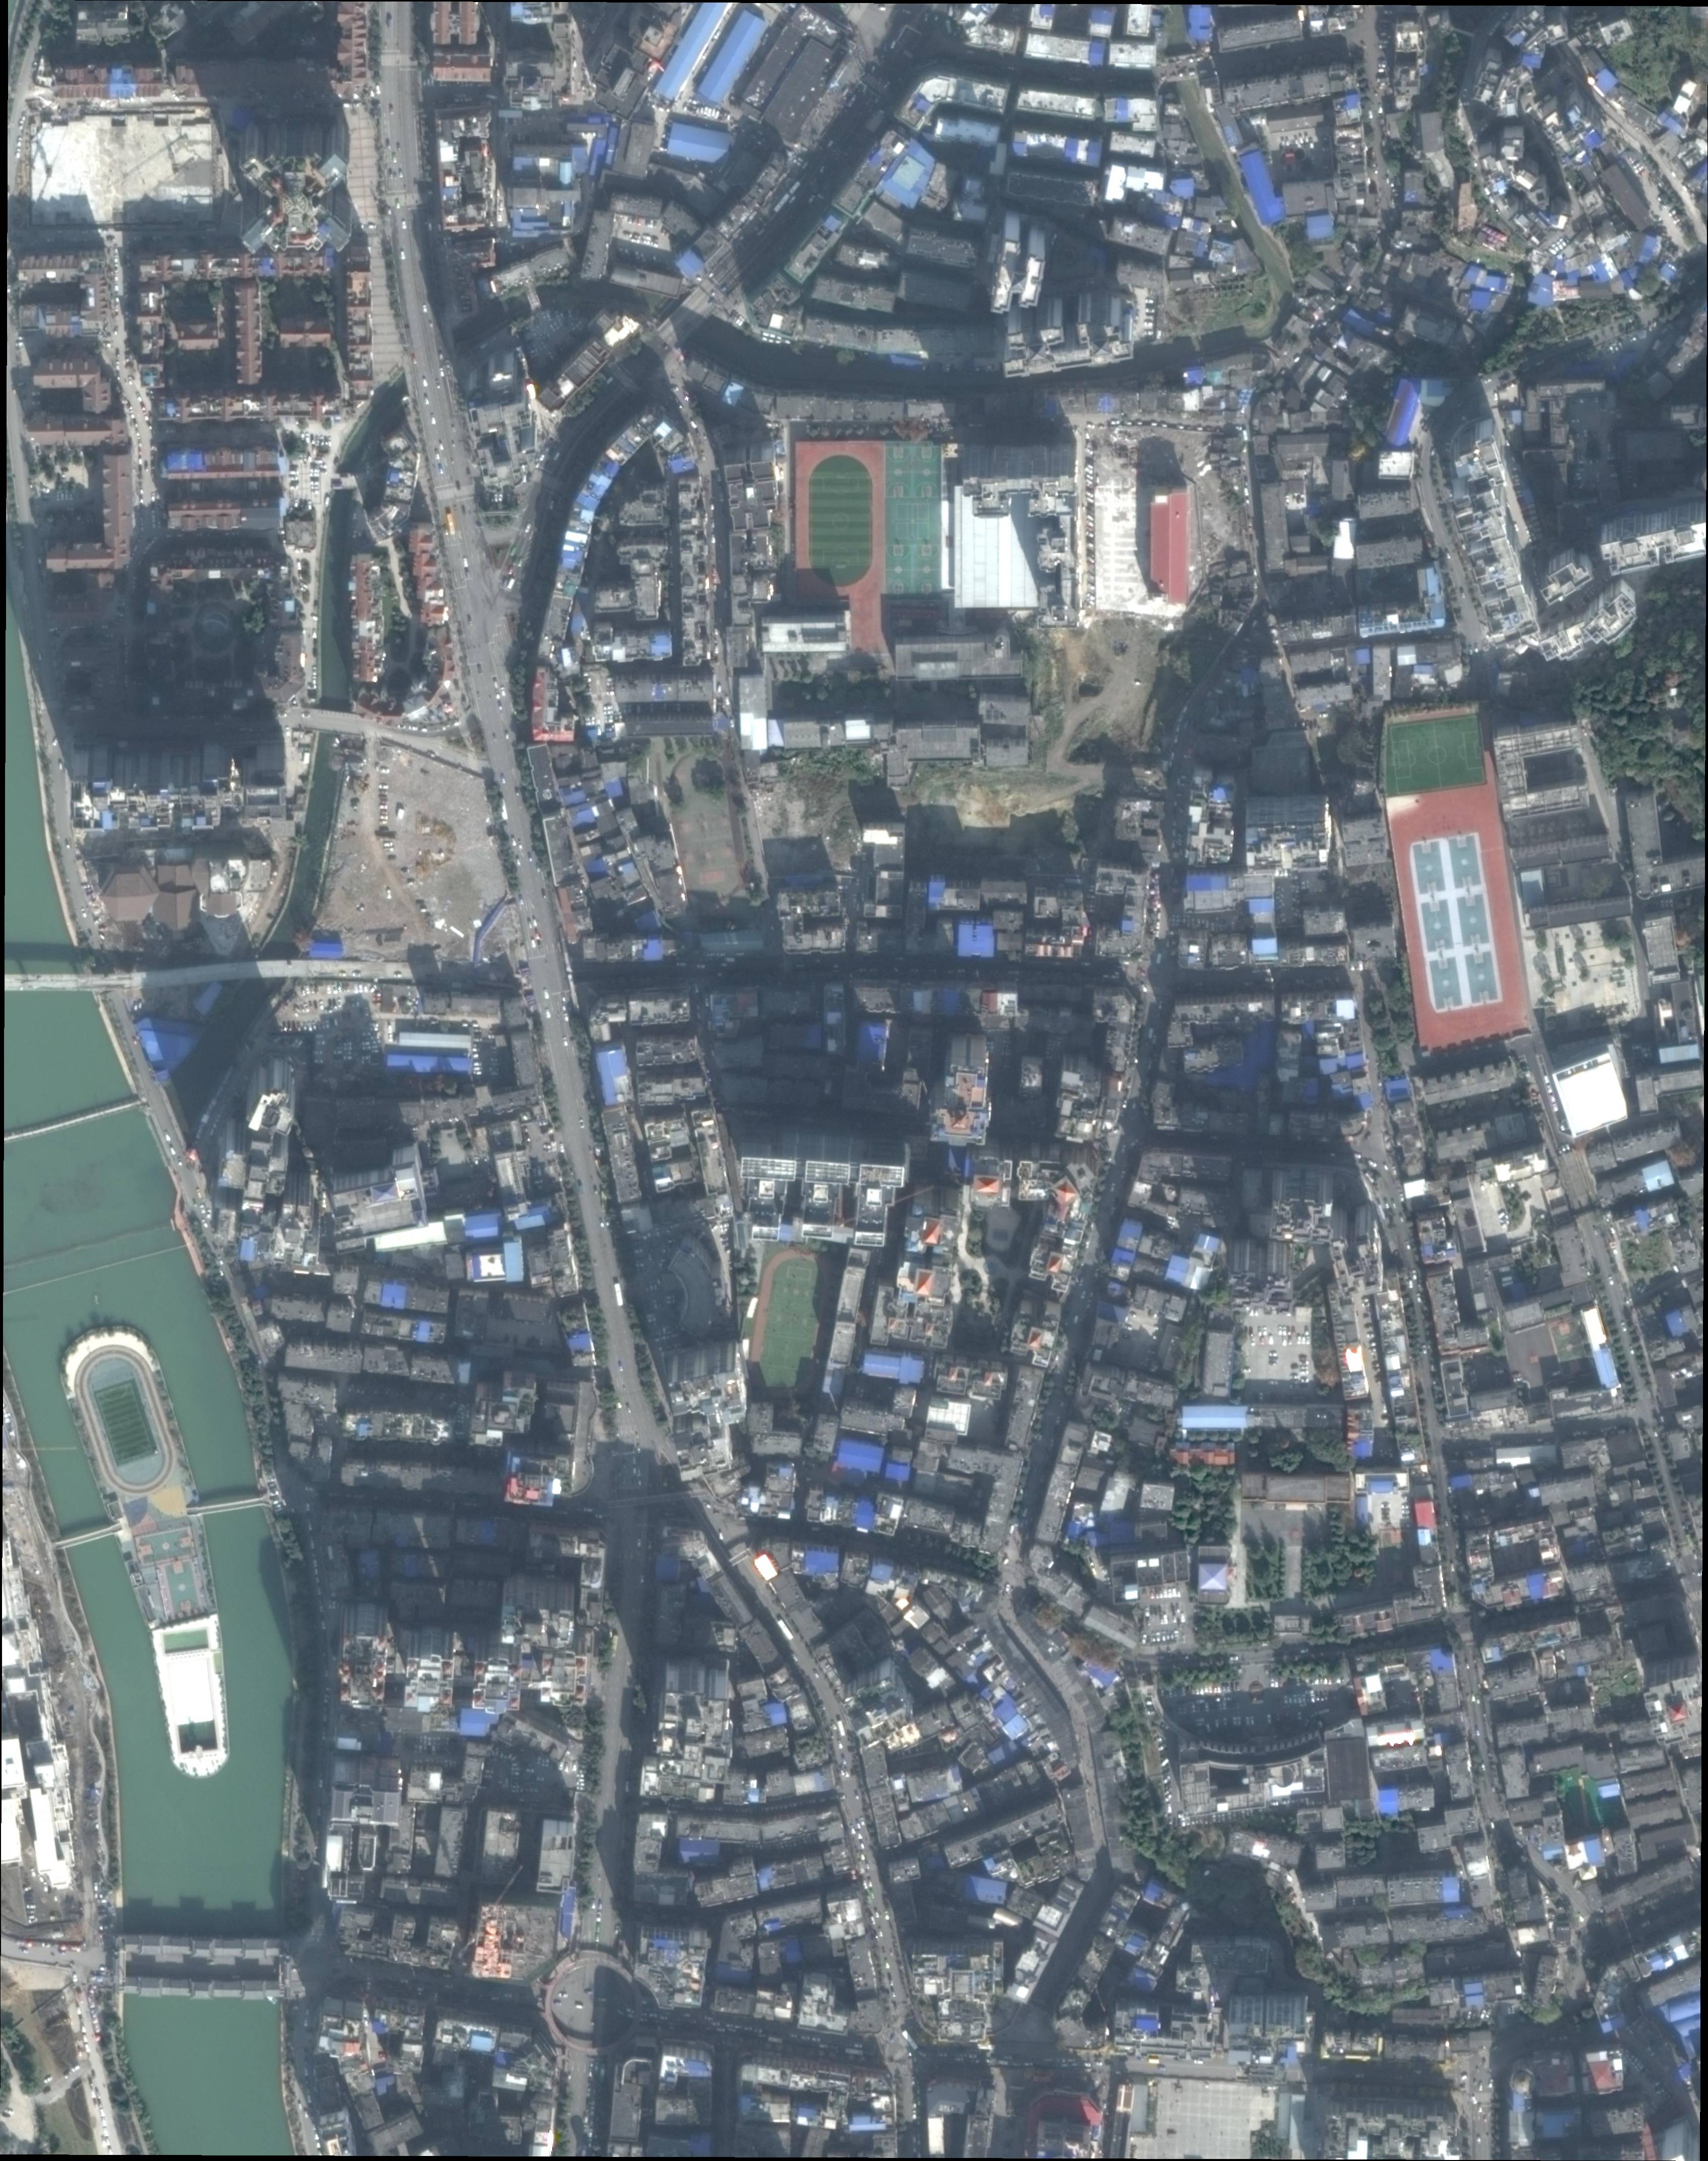basketball court: (1548, 1320, 1593, 1380), (764, 1308, 822, 1342), (759, 1338, 816, 1371), (683, 837, 738, 872), (165, 1562, 200, 1614), (1412, 842, 1447, 893), (774, 1278, 825, 1312), (140, 1529, 192, 1563), (1421, 899, 1455, 951), (1430, 957, 1463, 1008), (1449, 835, 1482, 888), (678, 812, 733, 844), (1465, 952, 1499, 1002), (1457, 894, 1490, 944), (913, 447, 940, 499), (887, 447, 913, 499), (913, 546, 941, 595), (886, 545, 913, 594)
ground track field: (64, 1333, 187, 1503), (796, 442, 886, 648), (747, 1240, 848, 1408)
soccer ball field: (1391, 717, 1484, 792), (811, 478, 872, 566), (97, 1383, 152, 1461)
